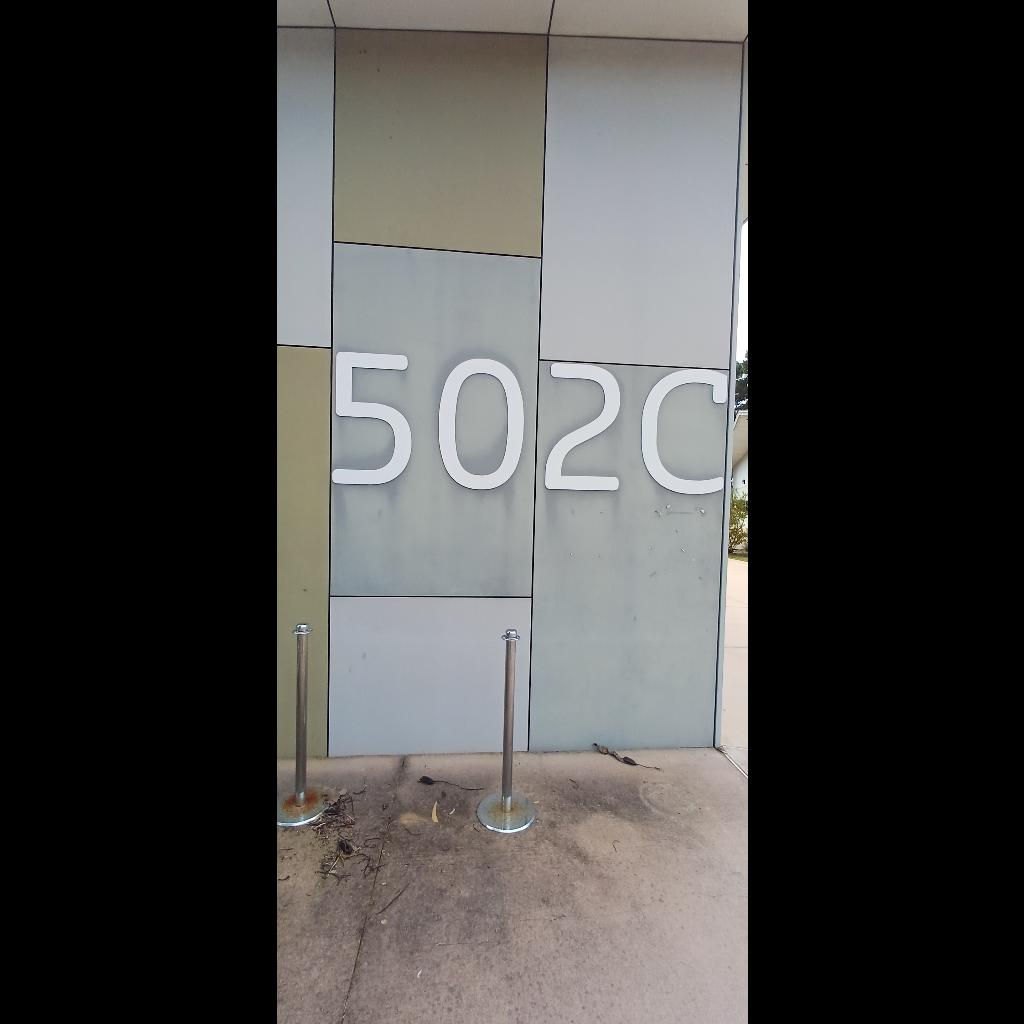BuildingCodes: (316, 340, 734, 528)
